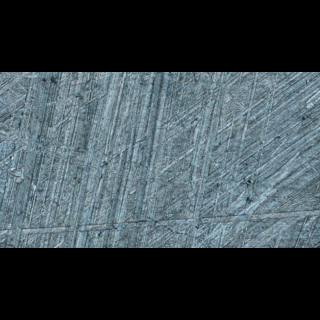d: (0, 118, 319, 210), (157, 72, 231, 248), (0, 205, 319, 243)
